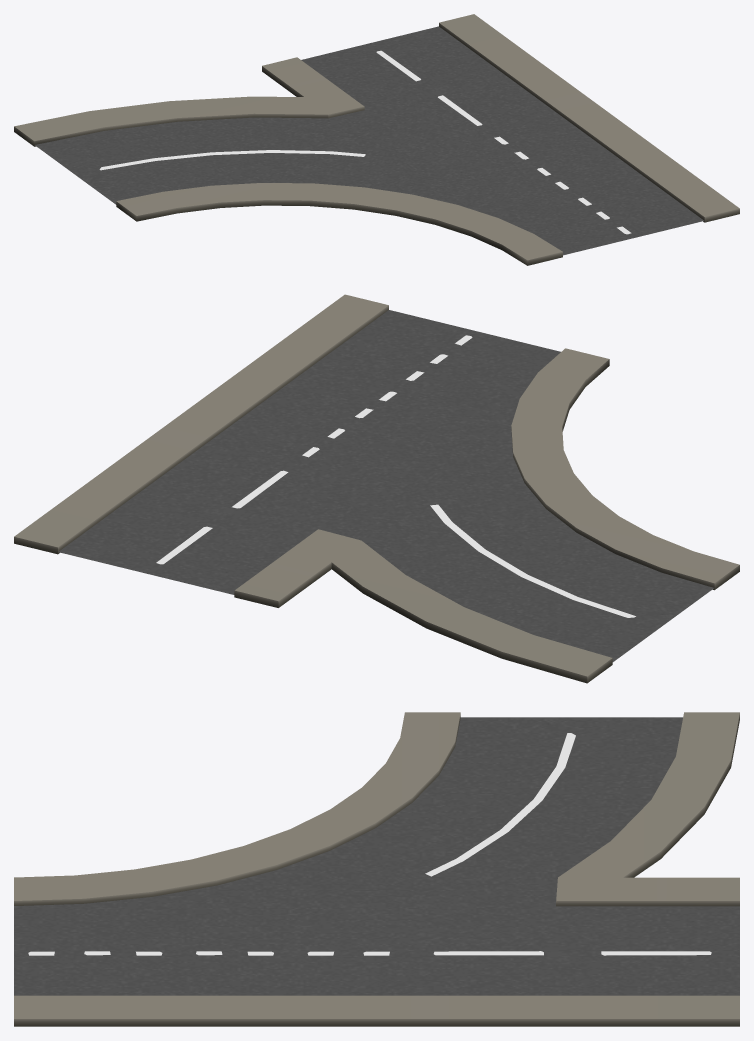
Rendered from Road14.fbx.
3 views of the same model, one above another, from view 1: azimuth 30°, elevation 25°; view 2: azimuth 150°, elevation 25°; view 3: azimuth 270°, elevation 25° (orthographic). The views are drawn at different scales.
Parts seen in each view (by area): view 1: Road_1P; view 2: Road_1P; view 3: Road_1P.
Part boxes in pixels (x1=…): Road_1P: x1=14, y1=14, x2=739, y2=265; Road_1P: x1=14, y1=294, x2=739, y2=683; Road_1P: x1=14, y1=712, x2=739, y2=1026.
Size of the model in its own units: 48584 by 561 by 48584.
